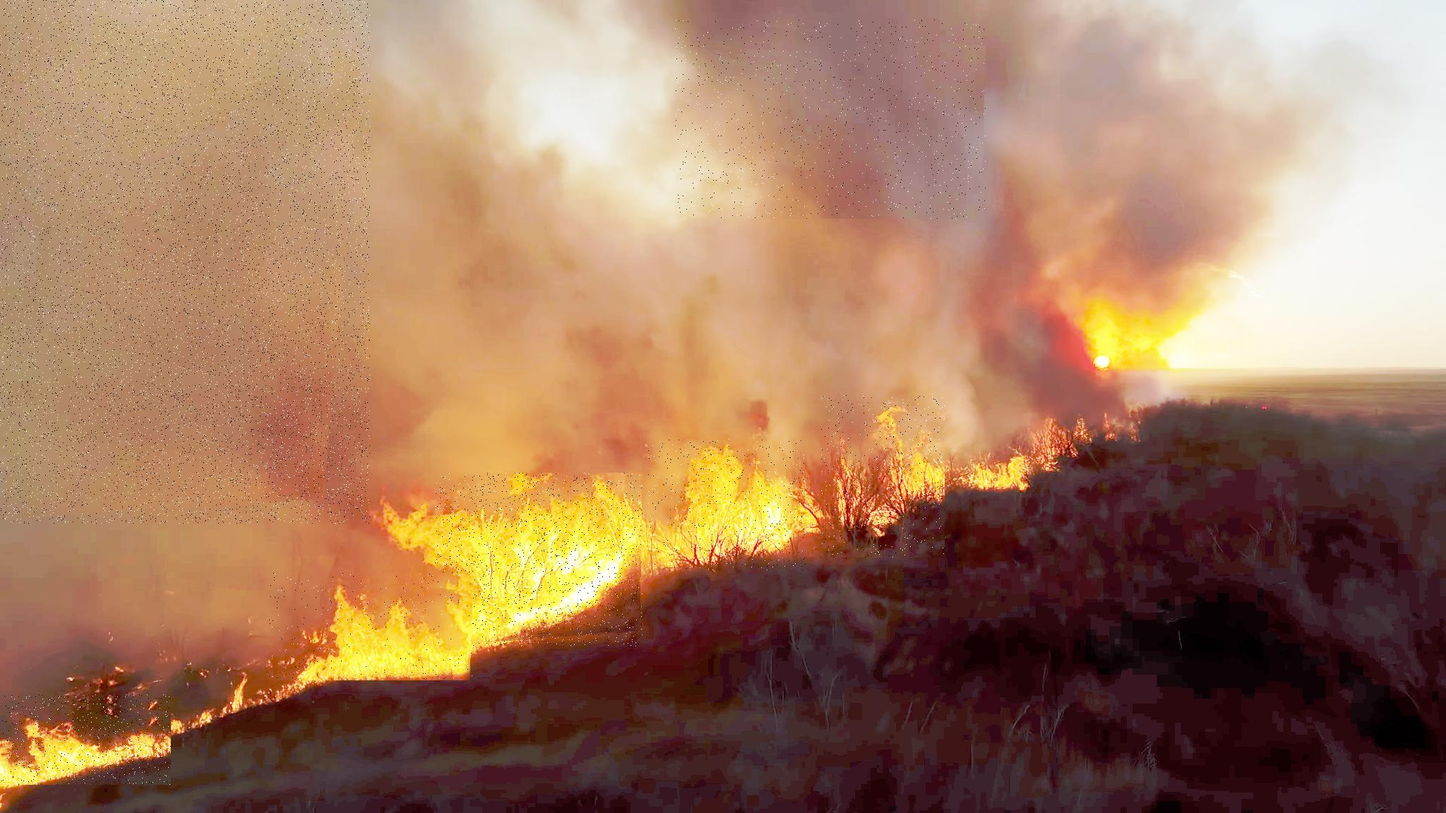fire: (435, 473, 643, 646), (268, 573, 473, 680), (648, 439, 806, 570), (820, 394, 945, 557), (1, 694, 171, 785)
smoke: (0, 0, 370, 524), (675, 20, 986, 219)
